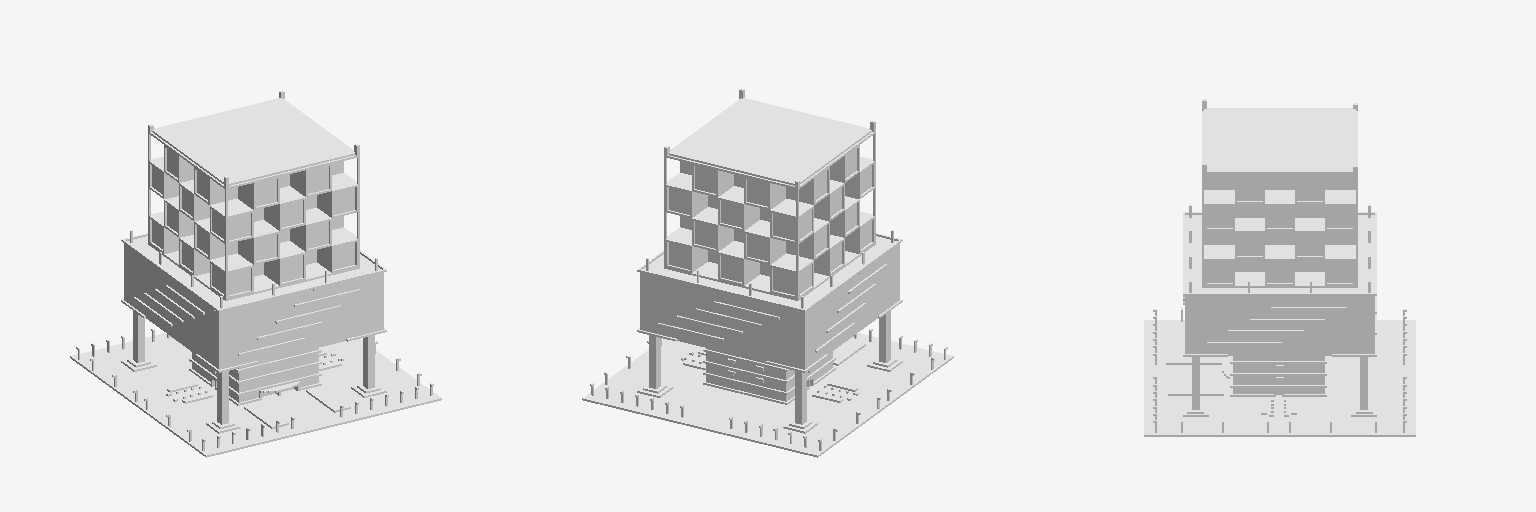
File: Block+42.obj
3 renders of one model, left to right at view 1: azimuth 30°, elevation 25°; view 2: azimuth 150°, elevation 25°; view 3: azimuth 270°, elevation 25°, orthographic.
Size of the model in its own units: 126 by 126 by 126.